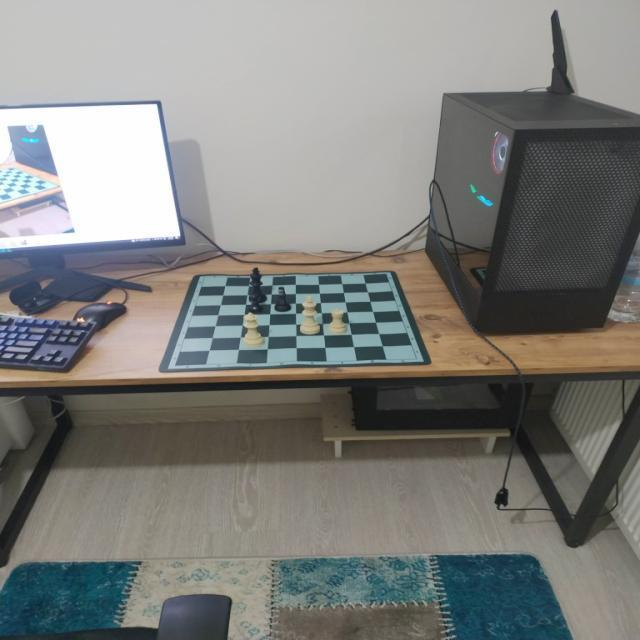chess-table-corners: (166, 360, 184, 370), (408, 354, 422, 362), (199, 273, 210, 281), (382, 270, 393, 278)
